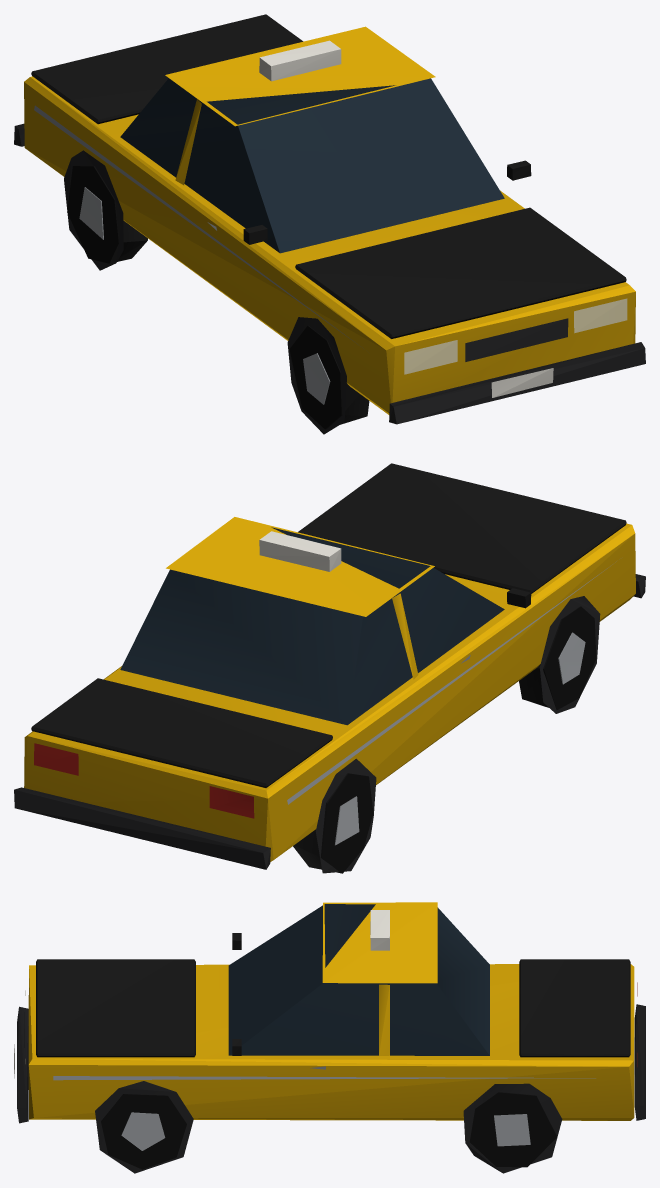
Rendered from sedan_low.glb.
The picture shows the model from 3 angles, top to bottom: view 1: azimuth 30°, elevation 25°; view 2: azimuth 150°, elevation 25°; view 3: azimuth 270°, elevation 25°; orthographic projection. The views are drawn at different scales.
Visible parts, largest first — view 1: Sedan_Low; view 2: Sedan_Low; view 3: Sedan_Low.
Part boxes in pixels (x1,y1,x2,y2): Sedan_Low: (14,14,645,434); Sedan_Low: (14,463,645,873); Sedan_Low: (14,902,645,1173).
Bounding box in the file's own units: 1.93 × 1.58 × 4.54.
